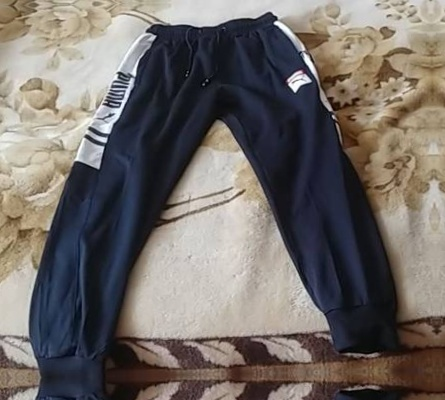Pants: (12, 17, 412, 369), (19, 381, 419, 400)
